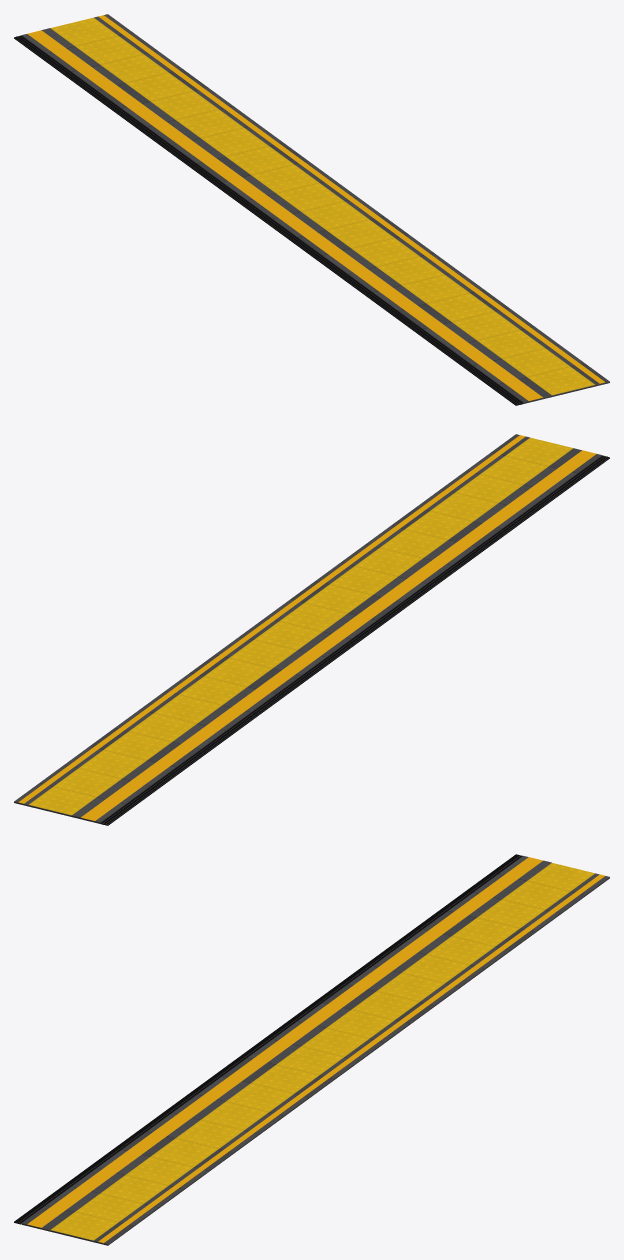
The model's file is gteki_platform_edge_l6000_gap.glb.
3 renders of one model, top to bottom at view 1: azimuth 30°, elevation 25°; view 2: azimuth 150°, elevation 25°; view 3: azimuth 330°, elevation 25°, orthographic.
Parts seen in each view (by area): view 1: VIS_tactile, VIS_coping, VIS_line, VIS_gap; view 2: VIS_tactile, VIS_coping, VIS_line, VIS_gap; view 3: VIS_tactile, VIS_coping, VIS_line, VIS_gap.
Boxes of the visible parts, left/top/right/bottom form: VIS_tactile: left=50, top=17, right=595, bottom=396; VIS_coping: left=21, top=14, right=609, bottom=403; VIS_line: left=27, top=15, right=605, bottom=402; VIS_gap: left=14, top=35, right=523, bottom=405; VIS_tactile: left=28, top=437, right=573, bottom=816; VIS_coping: left=14, top=434, right=602, bottom=823; VIS_line: left=18, top=435, right=596, bottom=822; VIS_gap: left=100, top=455, right=609, bottom=825; VIS_tactile: left=50, top=863, right=594, bottom=1242; VIS_coping: left=21, top=856, right=609, bottom=1245; VIS_line: left=27, top=857, right=605, bottom=1244; VIS_gap: left=14, top=854, right=522, bottom=1224.
Size of the model in its own units: 0.65 by 0.01 by 6.
Materials: 4 (2 with a texture image).
